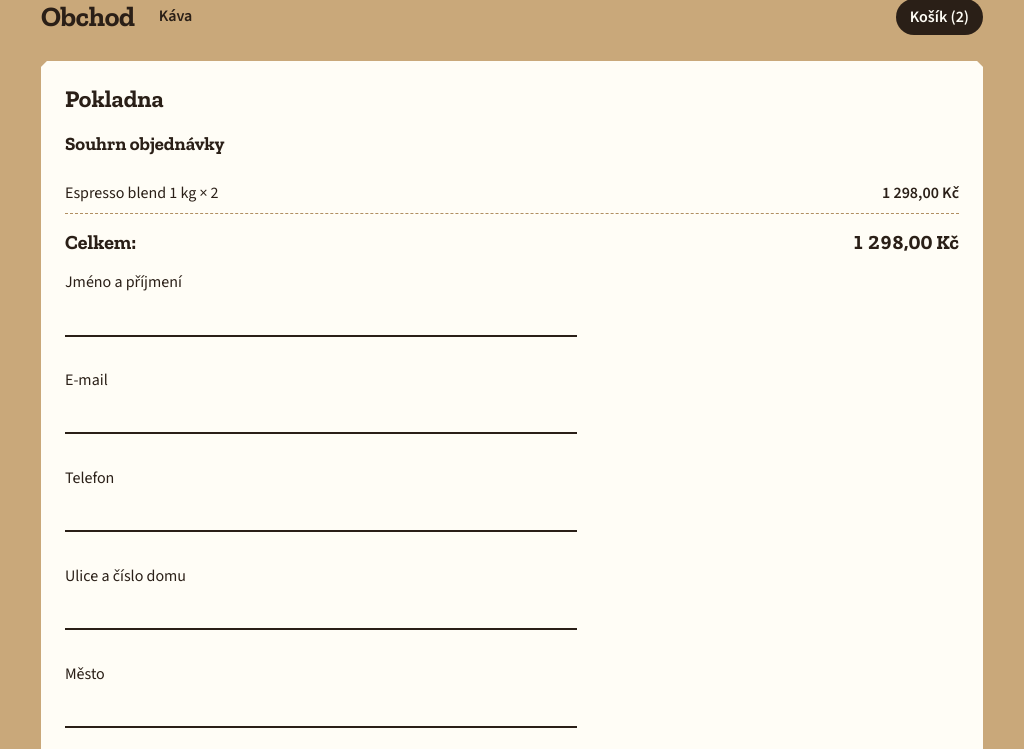
goes to the empty cart when everything sold out
Type "Jan Novák" into the field labelled "Jméno a příjmení" at [321, 317], box x1=65 y1=298 x2=577 y2=336
Type "jan@example.com" into the field labelled "E-mail" at [321, 415], box x1=65 y1=396 x2=577 y2=434
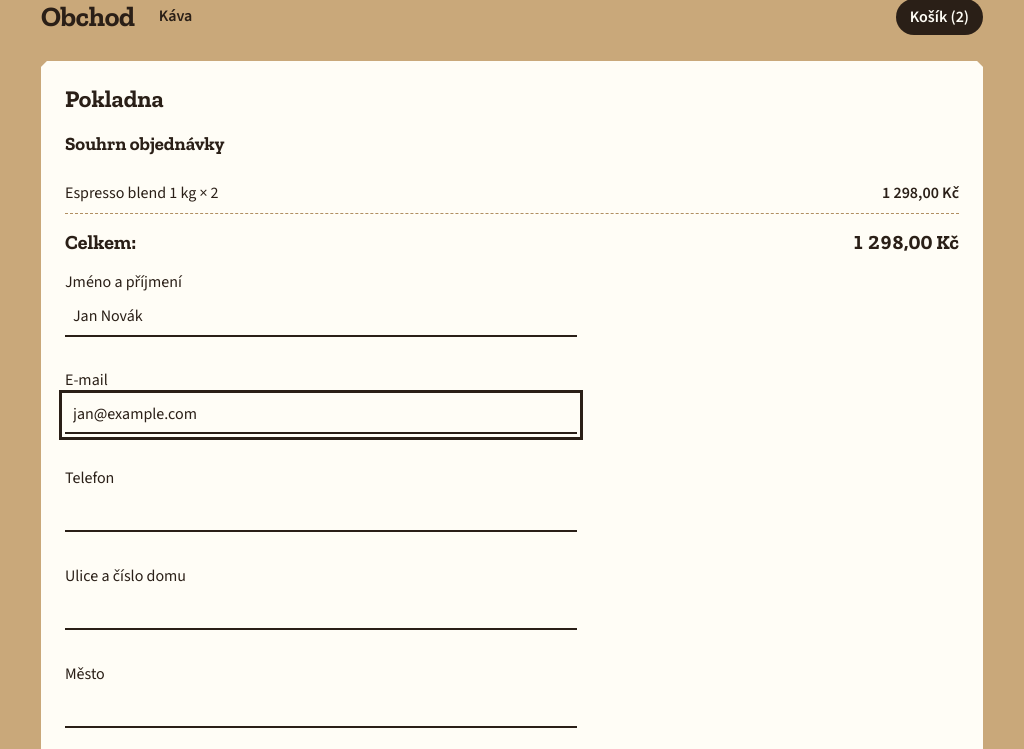
Type "777123456" into the field labelled "Telefon" at [321, 513], box x1=65 y1=494 x2=577 y2=532
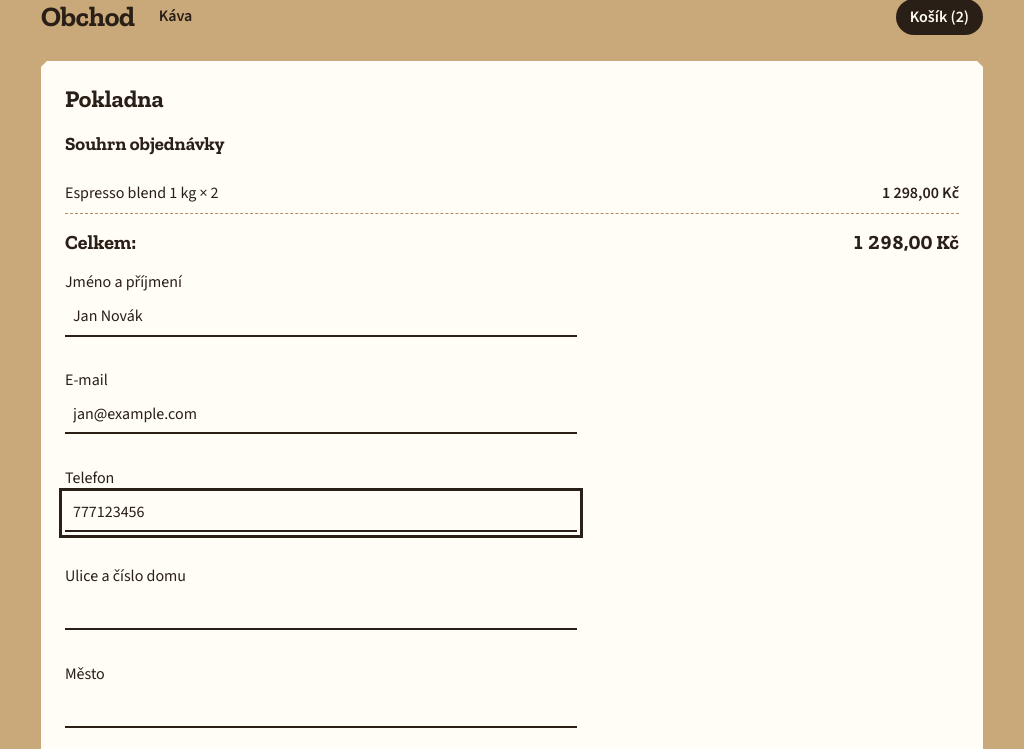
Type "Dlouhá 1" into the field labelled "Ulice a číslo domu" at [321, 611], box x1=65 y1=592 x2=577 y2=630
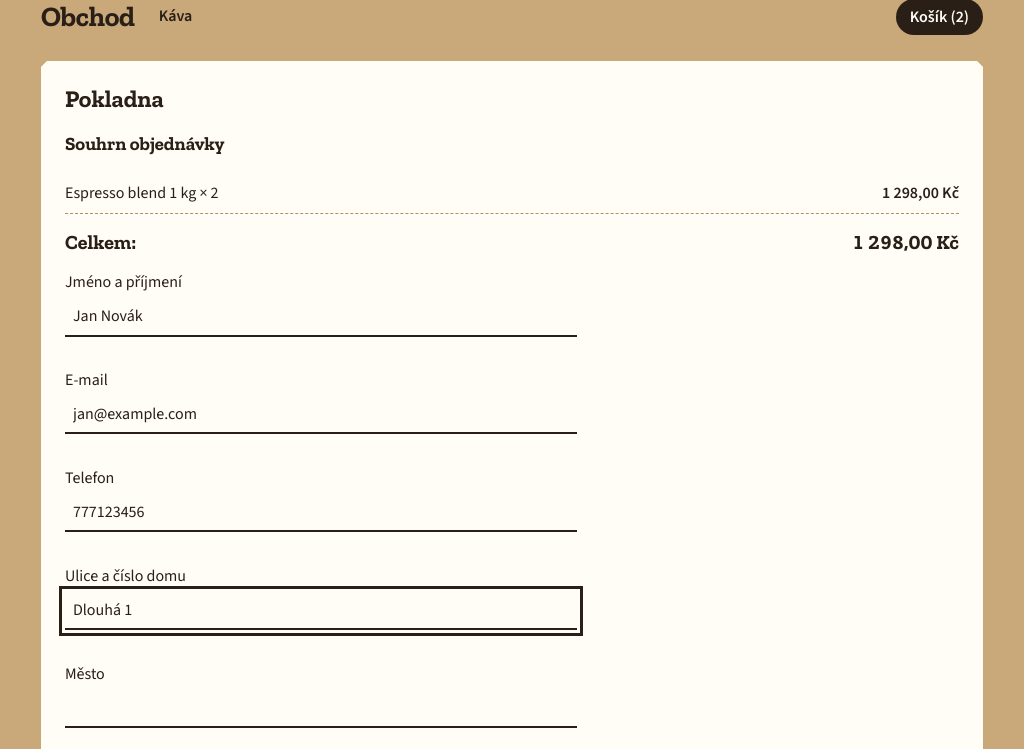
Type "Praha" into the field labelled "Město" at [321, 709], box x1=65 y1=690 x2=577 y2=728
(page scrolled)
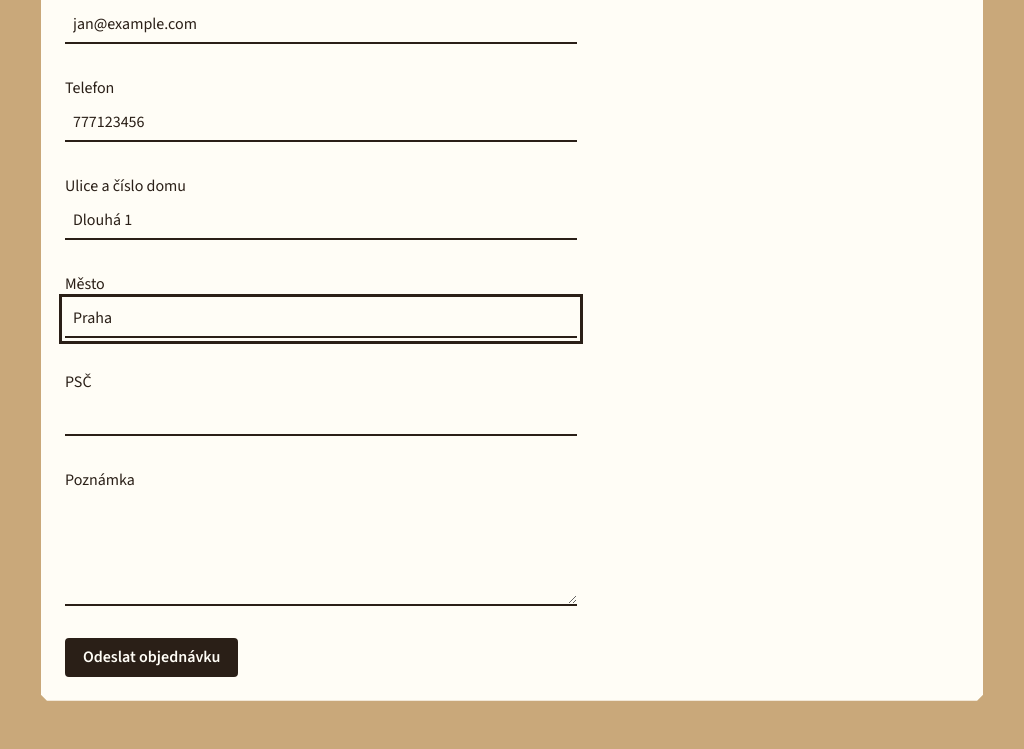
Type "110 00" into the field labelled "PSČ" at [321, 417], box x1=65 y1=398 x2=577 y2=436
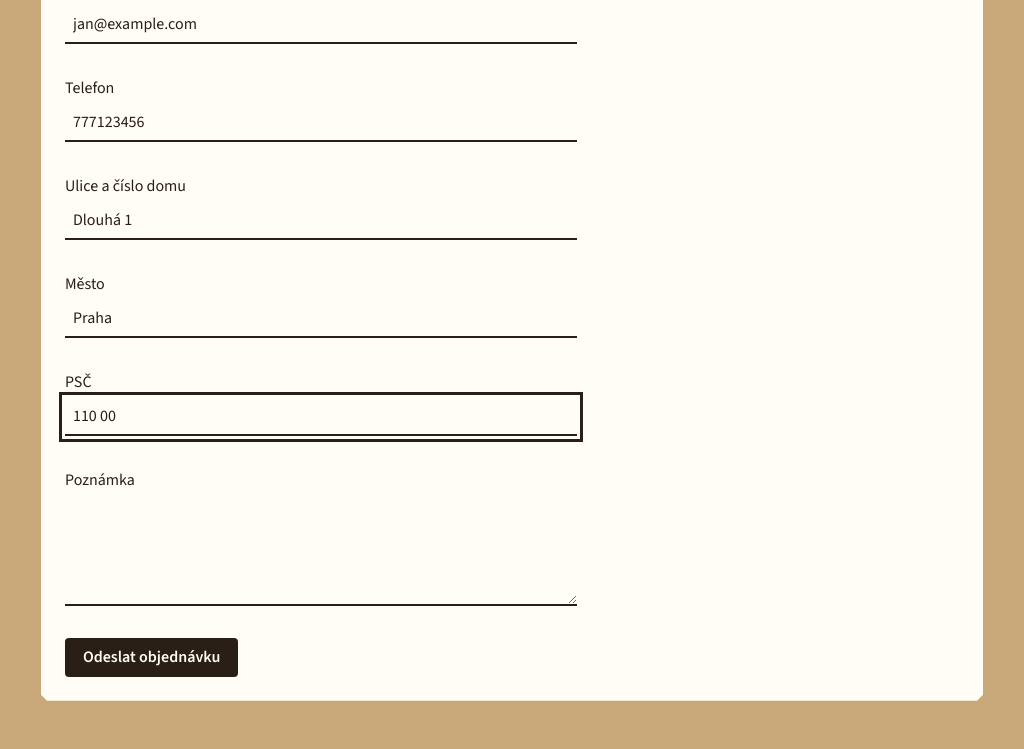
Click the button "Odeslat objednávku" at [152, 657], box x1=65 y1=638 x2=238 y2=677
(page scrolled)
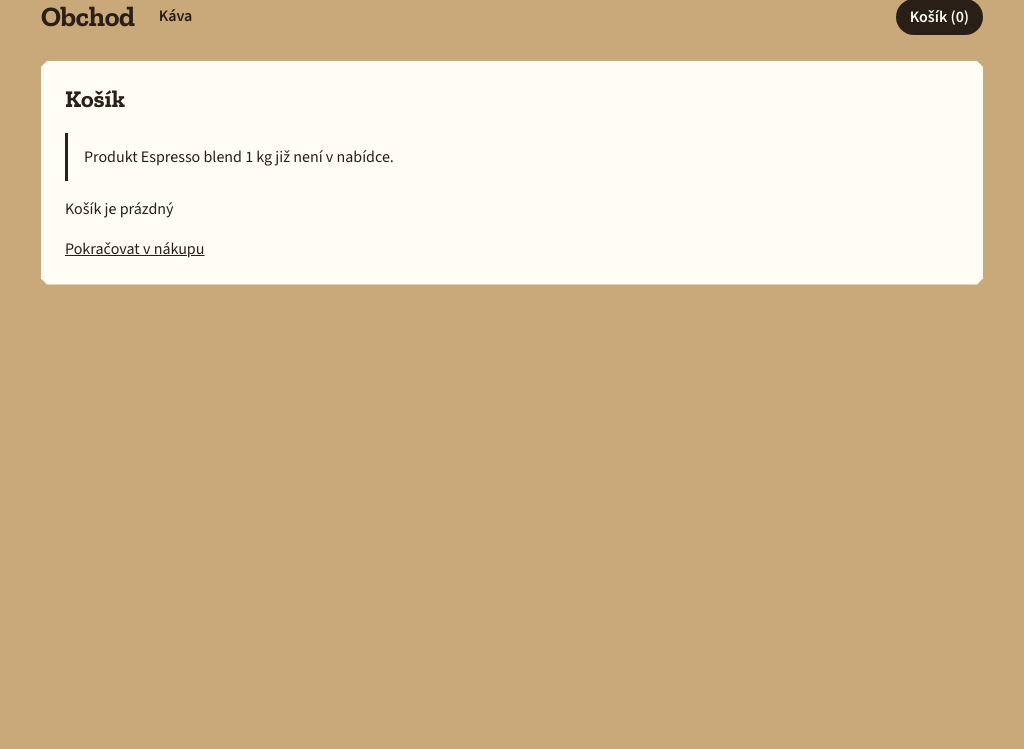
Now the text "Košík je prázdný" is shown, box x1=65 y1=198 x2=174 y2=220
Now the list item "Produkt Espresso blend 1 kg již není v nabídce." is shown, box x1=84 y1=146 x2=394 y2=168
